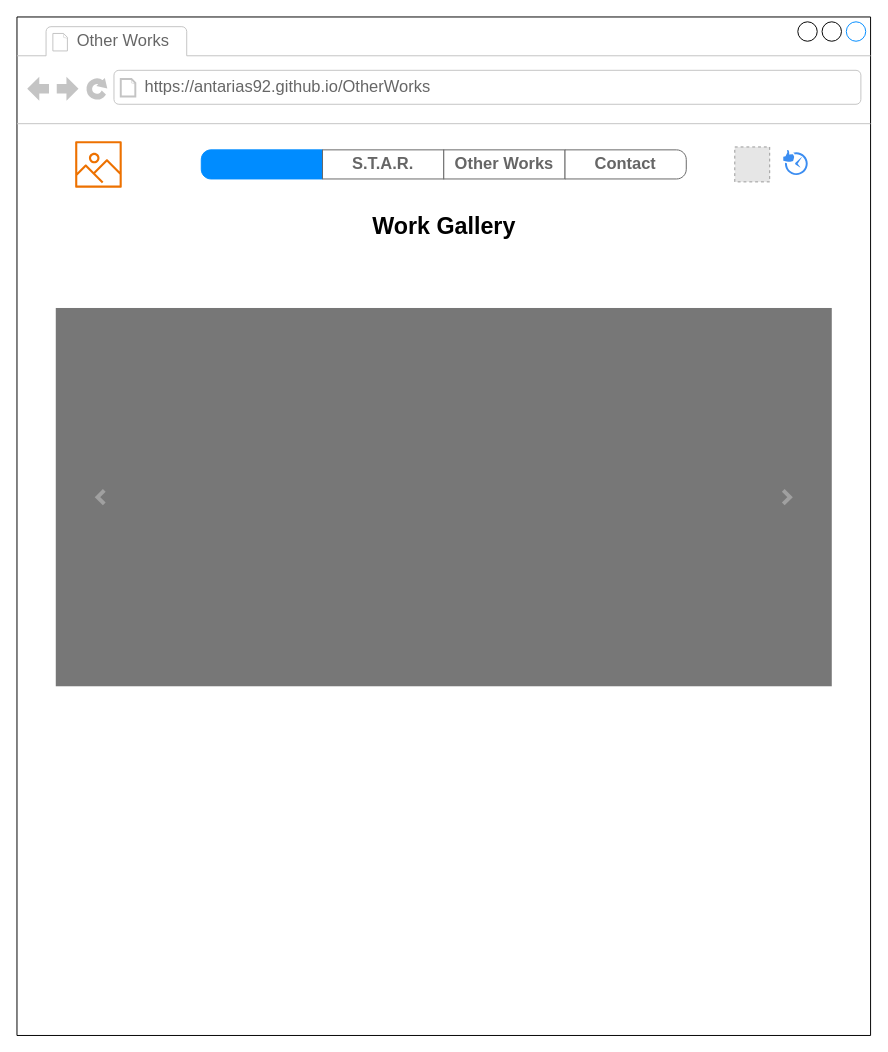
The diagram is 888 pixels wide and 1052 high, and some of its shapes have lost their labels. Grey dashed boxes stand in for pictures. Here are the shapes that lost their labels. From the top down, the box of each, then its label:
(200, 149, 323, 179): Home
(55, 307, 831, 686): First slide
